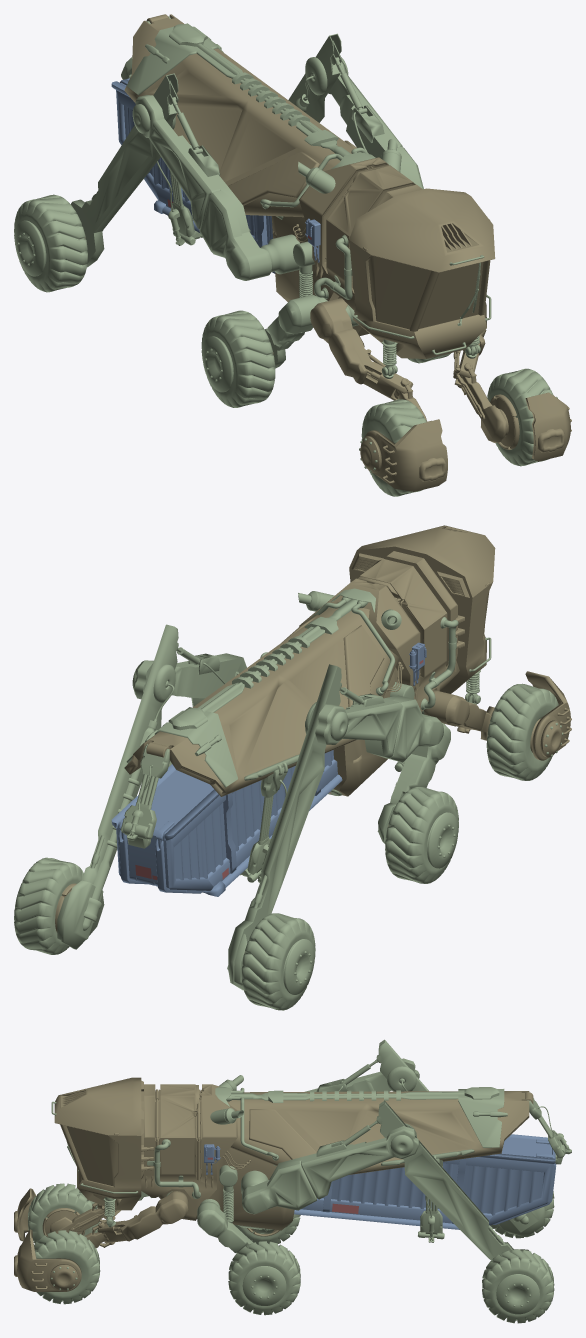
Rendered from Cargo_Transporter.fbx.
The picture shows the model from 3 angles, top to bottom: view 1: azimuth 30°, elevation 25°; view 2: azimuth 150°, elevation 25°; view 3: azimuth 270°, elevation 25°; orthographic projection. The views are drawn at different scales.
Visible parts, largest first — view 1: BG_1_low_04, BG_8_low_27, BG_1_low_02, BG_14_low_02, BG_13_low_03, BG_6_low_08, BG_1_low_09, BG_3_low_04, BG_9_low_17, BG_9_low_14, BG_4_low_07, BG_14_low_01 (+15 smaller); view 2: BG_8_low_27, BG_1_low_02, BG_13_low_03, BG_6_low_08, BG_14_low_02, BG_1_low_04, BG_11_low_01, BG_13_low_01, BG_9_low_17, BG_9_low_14, BG_14_low_01, BG_4_low_07 (+16 smaller); view 3: BG_8_low_27, BG_1_low_02, BG_1_low_04, BG_6_low_08, BG_14_low_02, BG_13_low_01, BG_13_low_03, BG_11_low_01, BG_2_low_14, BG_9_low_14, BG_9_low_17, BG_1_low_09 (+18 smaller).
Boxes of the visible parts, box(x1,y1,x2,y2) form: BG_1_low_04: box(349, 188, 495, 358); BG_8_low_27: box(14, 194, 553, 496); BG_1_low_02: box(124, 14, 353, 217); BG_14_low_02: box(135, 61, 423, 280); BG_13_low_03: box(71, 33, 341, 267); BG_6_low_08: box(299, 157, 422, 310); BG_1_low_09: box(365, 392, 570, 491); BG_3_low_04: box(310, 298, 486, 400); BG_9_low_17: box(126, 23, 350, 156); BG_9_low_14: box(15, 220, 233, 392); BG_4_low_07: box(228, 140, 356, 205); BG_14_low_01: box(264, 294, 320, 368); BG_8_low_27: box(14, 683, 558, 1010); BG_1_low_02: box(124, 602, 398, 796); BG_13_low_03: box(57, 624, 341, 990); BG_6_low_08: box(299, 551, 459, 711); BG_14_low_02: box(133, 653, 443, 762); BG_1_low_04: box(349, 525, 495, 693); BG_11_low_01: box(116, 759, 337, 890); BG_13_low_01: box(174, 750, 333, 880); BG_9_low_17: box(126, 599, 357, 787); BG_9_low_14: box(15, 812, 458, 994); BG_14_low_01: box(377, 723, 450, 843); BG_4_low_07: box(282, 614, 384, 707); BG_8_low_27: box(28, 1183, 554, 1323); BG_1_low_02: box(228, 1091, 529, 1174); BG_1_low_04: box(54, 1077, 141, 1210); BG_6_low_08: box(141, 1084, 237, 1199); BG_14_low_02: box(242, 1058, 419, 1214); BG_13_low_01: box(322, 1163, 543, 1215); BG_13_low_03: box(378, 1039, 544, 1261); BG_11_low_01: box(301, 1137, 553, 1225); BG_2_low_14: box(158, 1147, 294, 1230); BG_9_low_14: box(242, 1266, 539, 1314); BG_9_low_17: box(231, 1089, 504, 1147); BG_1_low_09: box(17, 1188, 81, 1291).
Bounding box in the file's own units: 759 × 698 × 1720.
